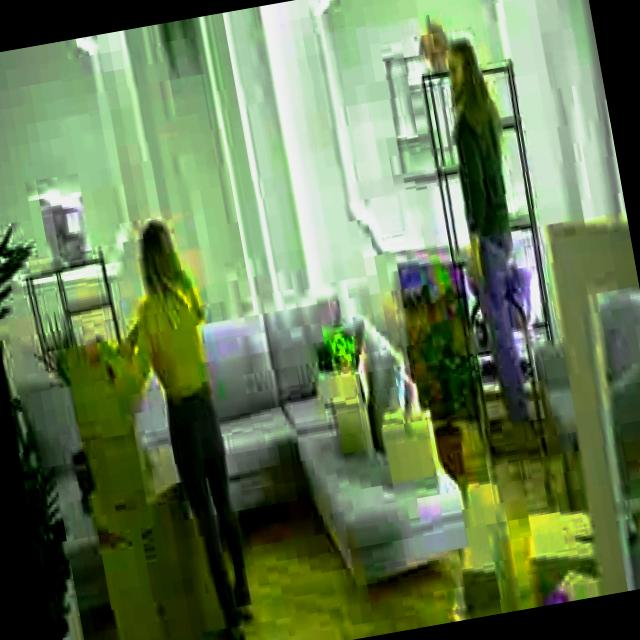Box: (95, 504, 215, 640), (453, 478, 515, 610), (522, 492, 598, 569), (82, 432, 156, 507), (378, 408, 444, 491), (314, 366, 376, 452), (64, 360, 128, 432)
